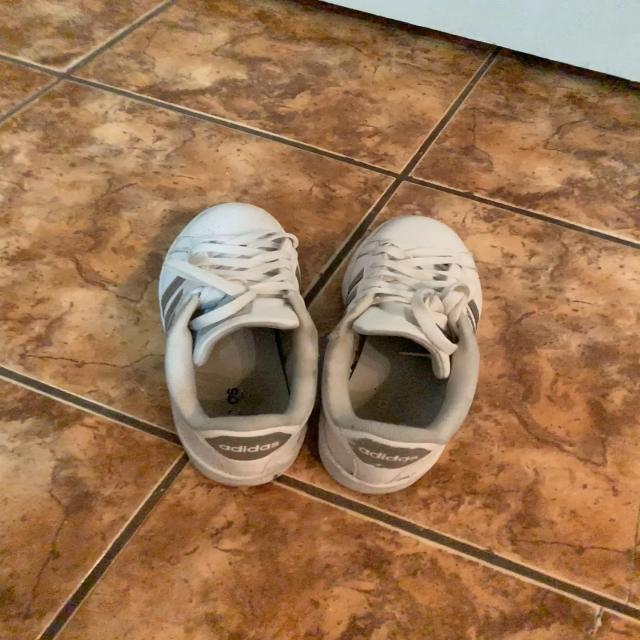shoe: (156, 204, 320, 489), (317, 215, 484, 494)
